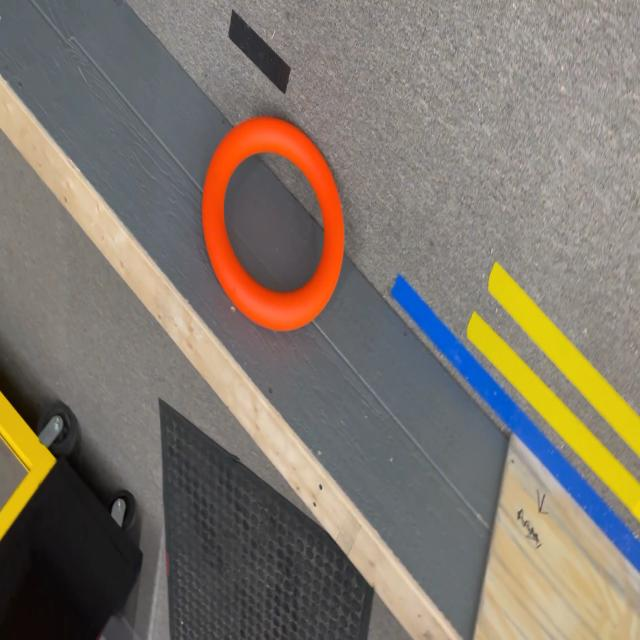note: (202, 116, 345, 330)
